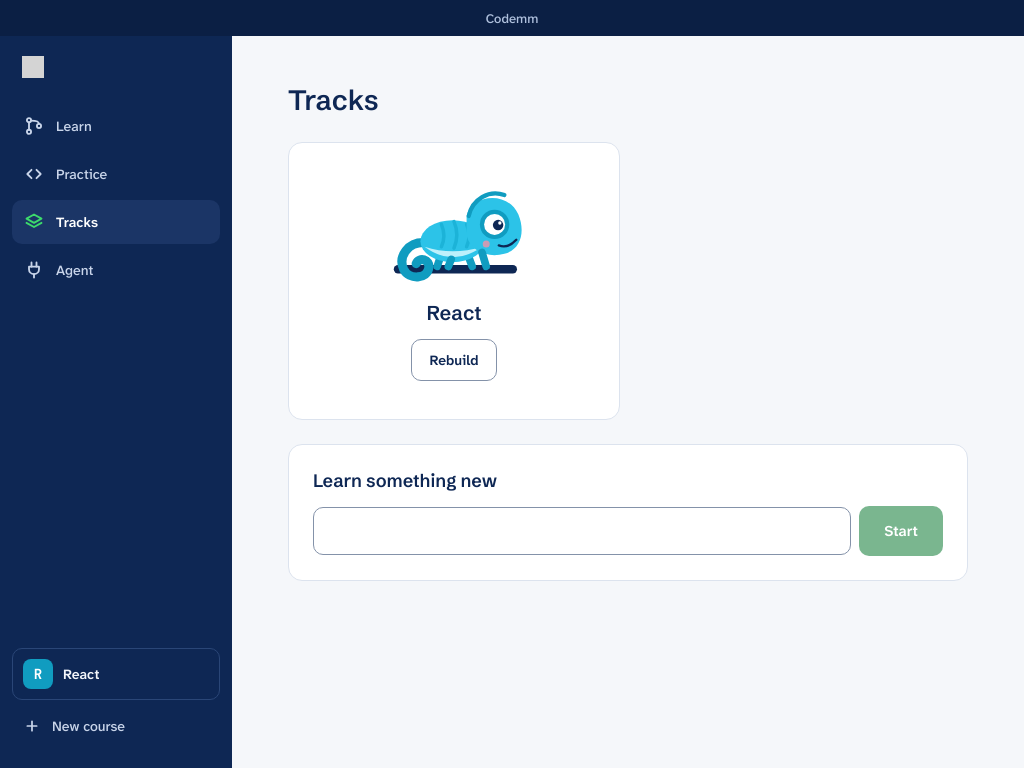
Test: tracks › says a rebuild failed on the banner when the learner has left the page by then
The image size is (1024, 768).
Click the button "Rebuild".
click(454, 360)  # box [411, 339, 498, 381]
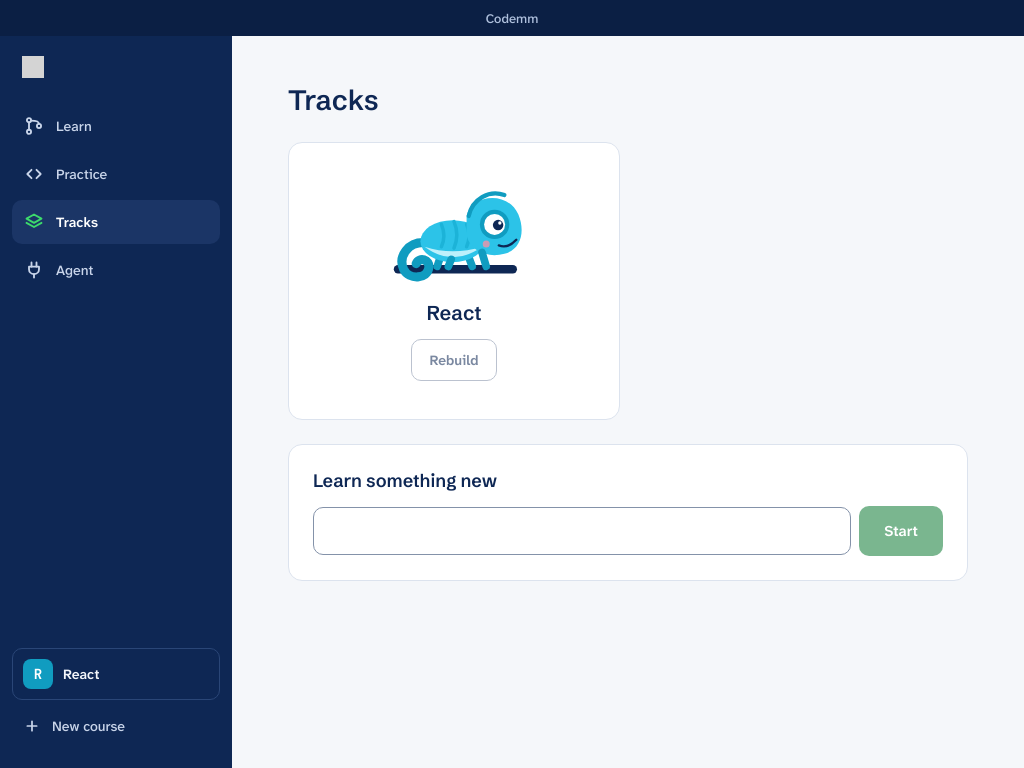
Click the button "Learn".
click(116, 126)  # box [12, 104, 220, 148]
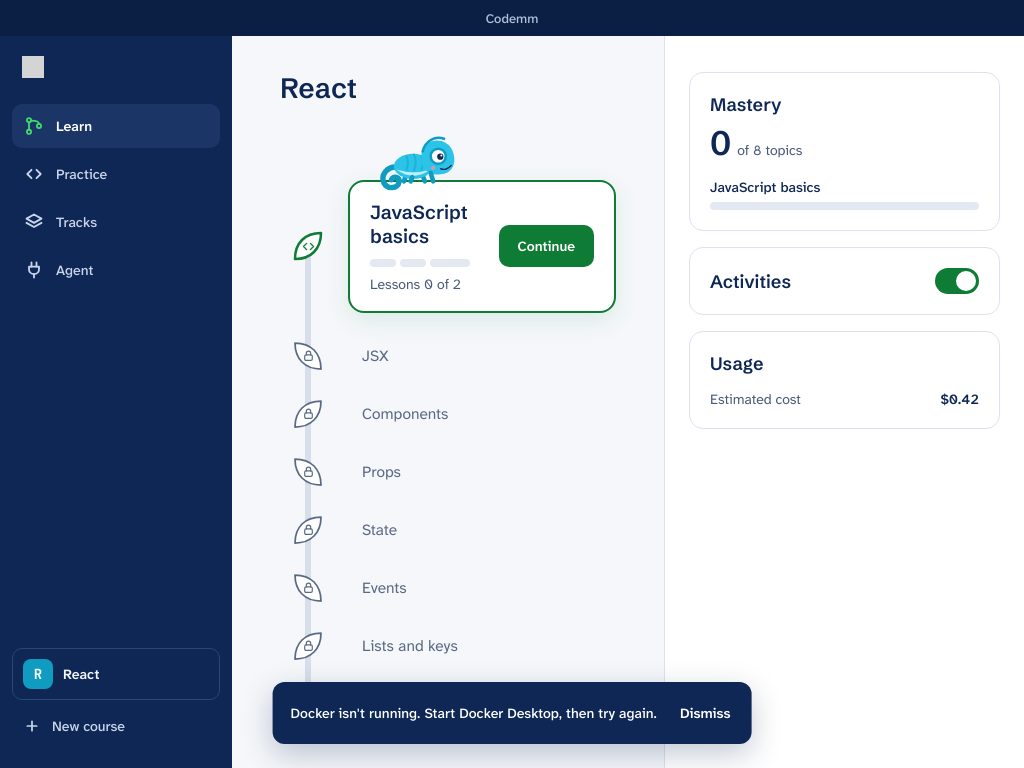
Now the heading "React" is shown, box [280, 71, 357, 105]
Now the message shows "Docker isn't running. Start Docker Desktop, then try again.", box [291, 704, 657, 722]
